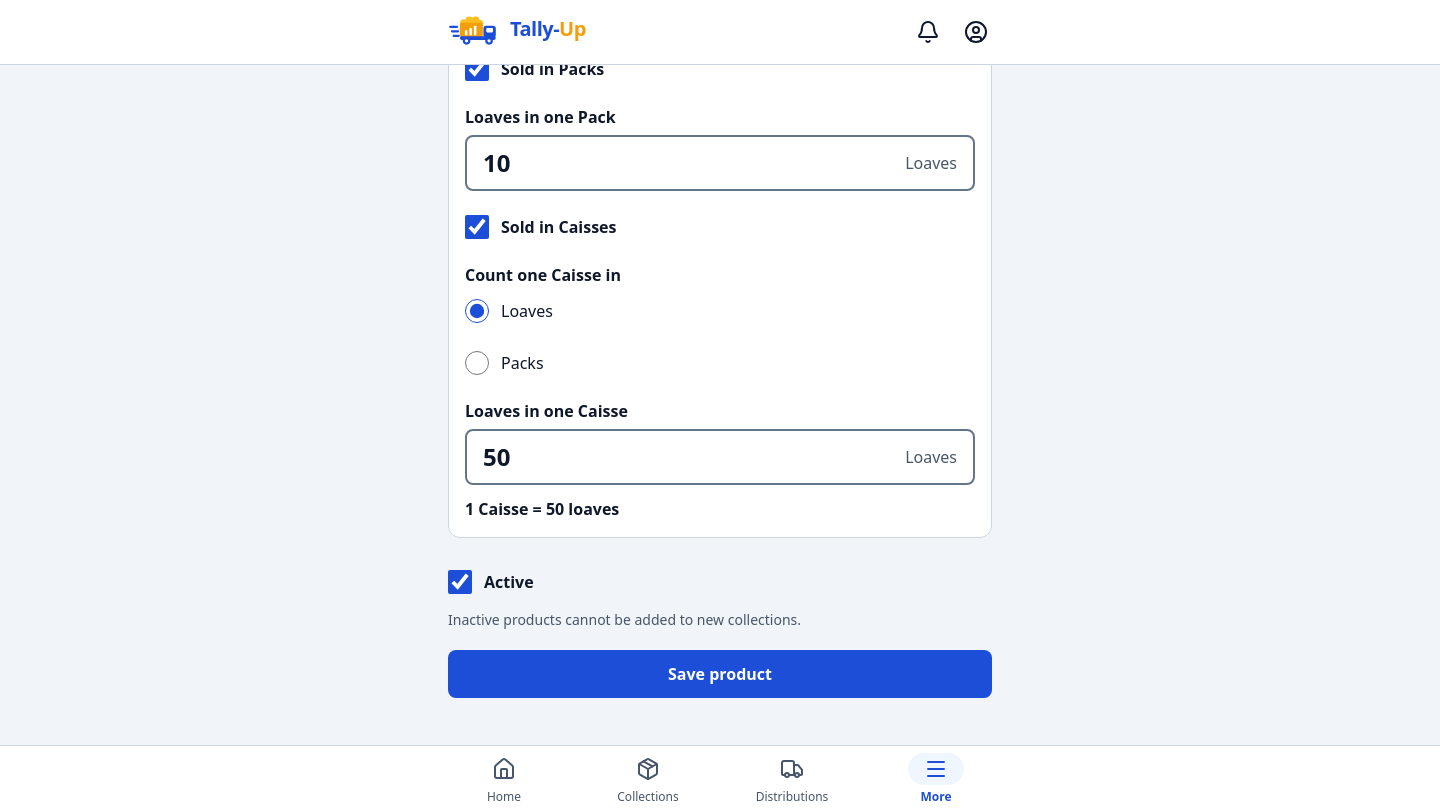
Test: Edit product › explains a refused save in plain words
(page scrolled)
Click the button "Save product": (720, 674) [448, 650, 992, 698]
(page scrolled)
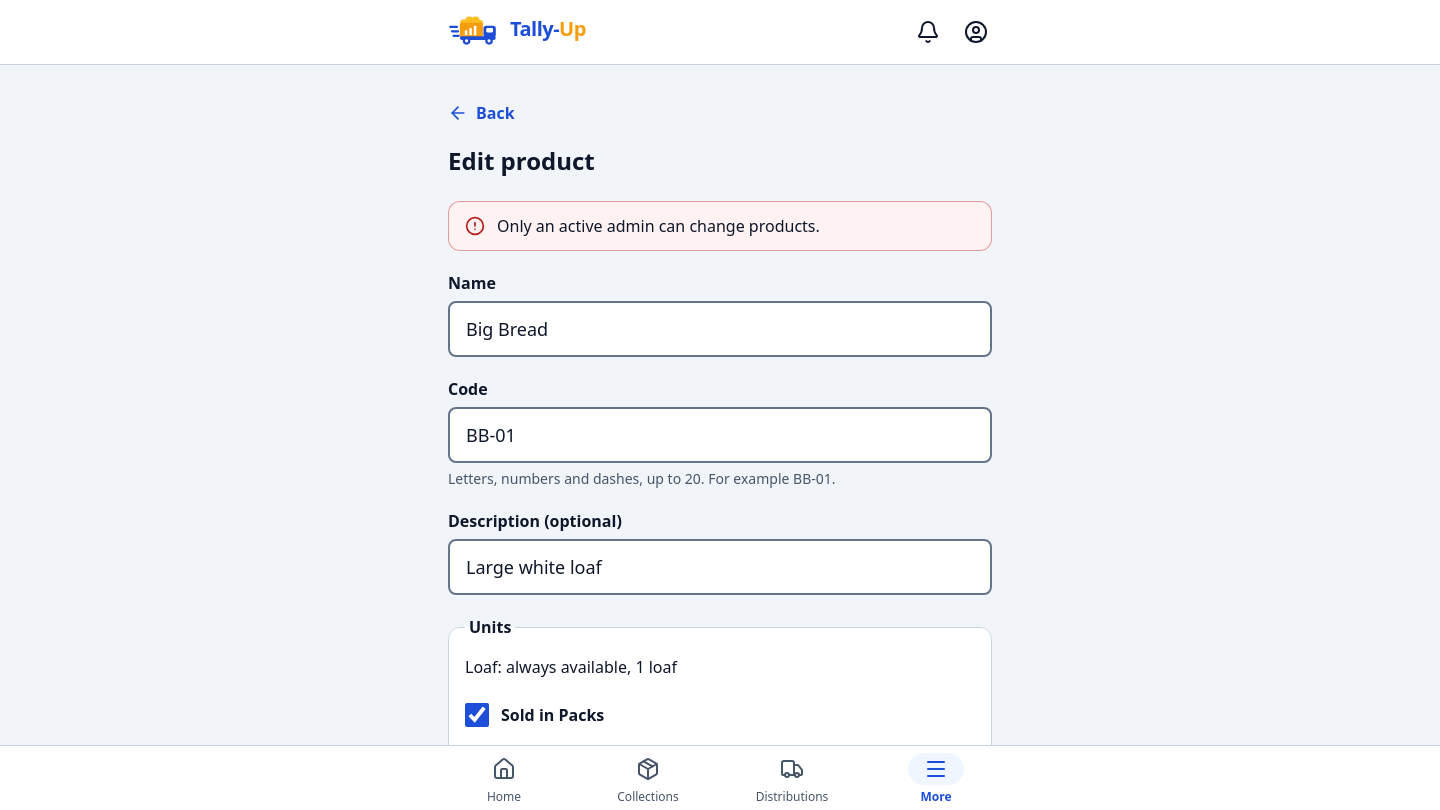
Now the message reads "Only an active admin can change products.", box [497, 215, 820, 237]
